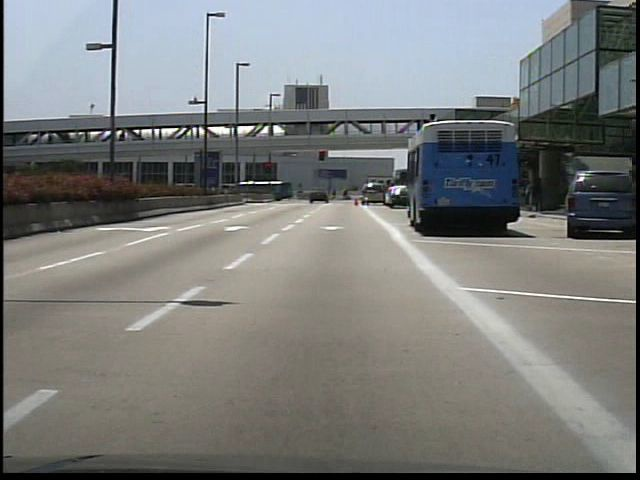person: (530, 175, 544, 210), (340, 186, 353, 201), (332, 186, 333, 201)
